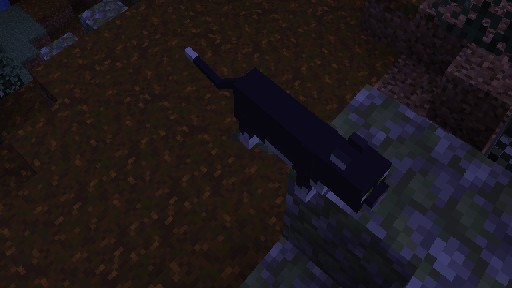cat: (184, 46, 391, 213)
